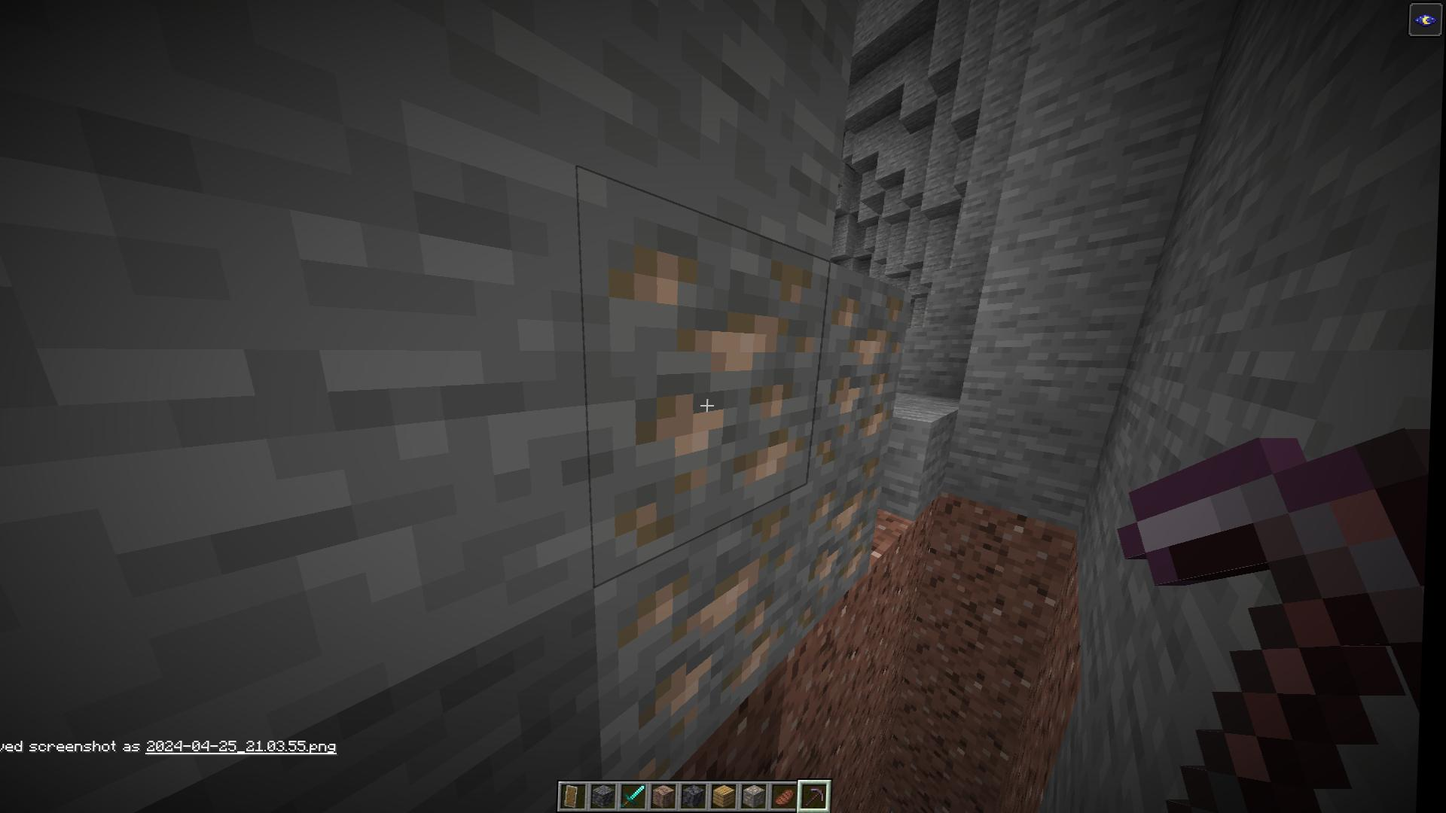iron ore: (584, 231, 820, 536), (617, 526, 797, 772), (822, 279, 899, 447), (810, 475, 886, 610)
